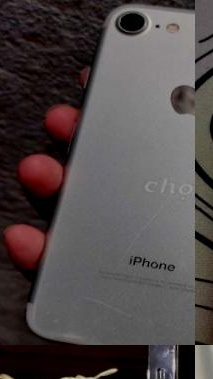scratch: (106, 114, 195, 270), (67, 284, 157, 325), (103, 0, 166, 45), (155, 345, 195, 367), (53, 323, 94, 344), (147, 372, 181, 379)
